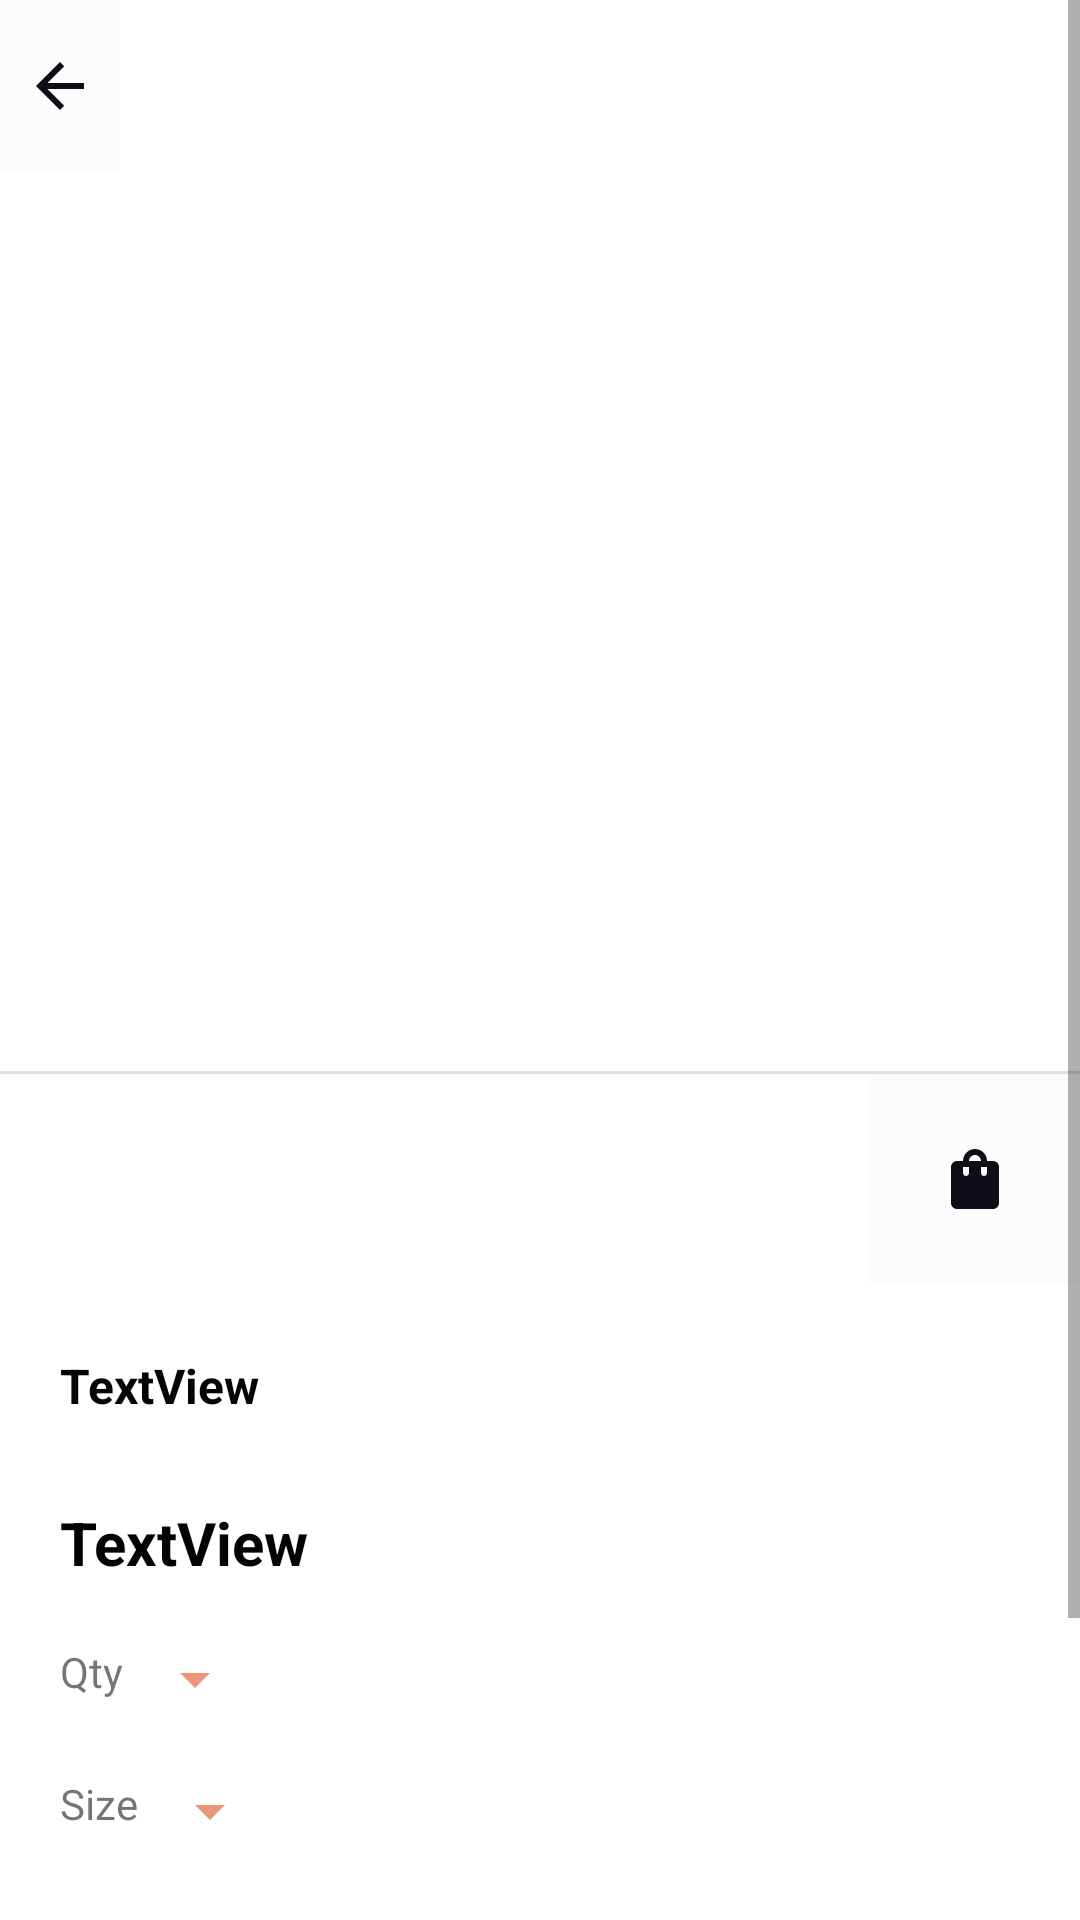

Point at icon controls on the screen. Image size 1080px x 1920px, points as (x,y).
arrow back: (60,86)
